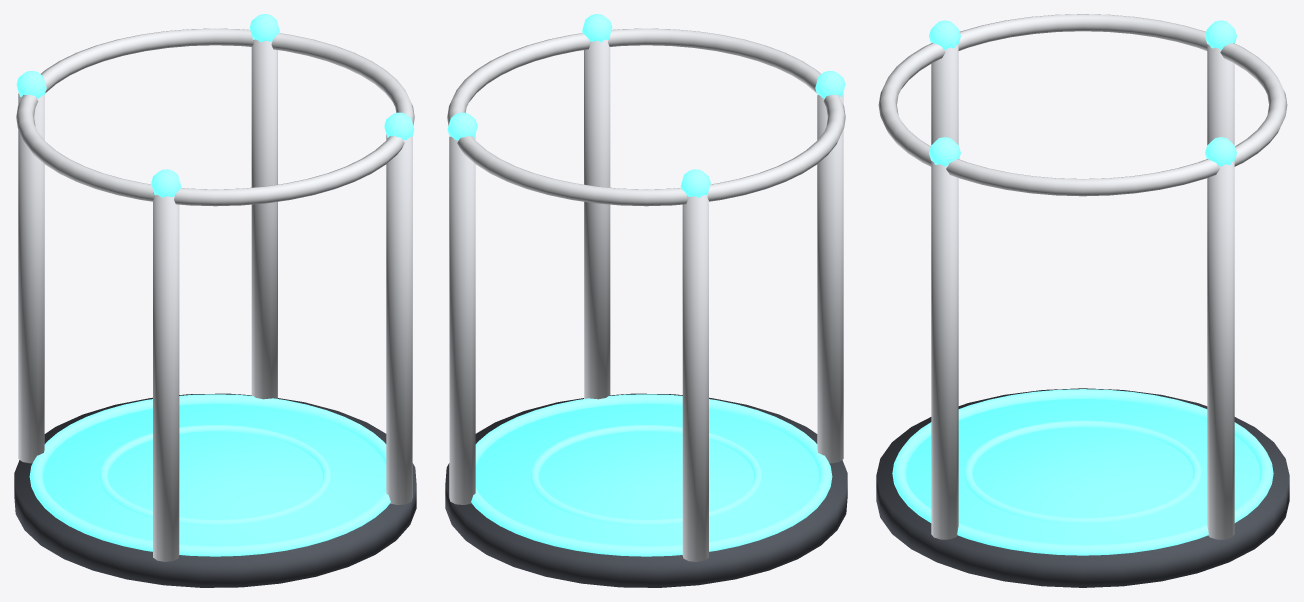
File: teleporter_pad_ring_pad.glb
The picture shows the model from 3 angles, left to right: view 1: azimuth 30°, elevation 25°; view 2: azimuth 150°, elevation 25°; view 3: azimuth 270°, elevation 25°; orthographic projection. The views are drawn at different scales.
Parts seen in each view (by area): view 1: GD_teleporter_pad_ring_pad__m2, GD_teleporter_pad_ring_pad__m4, GD_teleporter_pad_ring_pad__m0, GD_teleporter_pad_ring_pad__m1, GD_teleporter_pad_ring_pad__m3; view 2: GD_teleporter_pad_ring_pad__m2, GD_teleporter_pad_ring_pad__m4, GD_teleporter_pad_ring_pad__m0, GD_teleporter_pad_ring_pad__m1, GD_teleporter_pad_ring_pad__m3; view 3: GD_teleporter_pad_ring_pad__m4, GD_teleporter_pad_ring_pad__m2, GD_teleporter_pad_ring_pad__m0, GD_teleporter_pad_ring_pad__m1, GD_teleporter_pad_ring_pad__m3.
Part boxes in pixels (<box>): GD_teleporter_pad_ring_pad__m2: <box>18,39,412,561</box>; GD_teleporter_pad_ring_pad__m4: <box>43,403,386,545</box>; GD_teleporter_pad_ring_pad__m0: <box>14,393,416,587</box>; GD_teleporter_pad_ring_pad__m1: <box>16,14,414,556</box>; GD_teleporter_pad_ring_pad__m3: <box>16,28,414,206</box>; GD_teleporter_pad_ring_pad__m2: <box>449,39,843,561</box>; GD_teleporter_pad_ring_pad__m4: <box>475,403,818,545</box>; GD_teleporter_pad_ring_pad__m0: <box>445,393,847,587</box>; GD_teleporter_pad_ring_pad__m1: <box>447,14,845,556</box>; GD_teleporter_pad_ring_pad__m3: <box>447,28,845,206</box>; GD_teleporter_pad_ring_pad__m4: <box>906,399,1259,544</box>; GD_teleporter_pad_ring_pad__m2: <box>931,44,1234,539</box>; GD_teleporter_pad_ring_pad__m0: <box>876,388,1289,587</box>; GD_teleporter_pad_ring_pad__m1: <box>892,20,1273,555</box>; GD_teleporter_pad_ring_pad__m3: <box>878,14,1287,196</box>.
Size of the model in its own units: 1.8 by 2.02 by 1.8.
